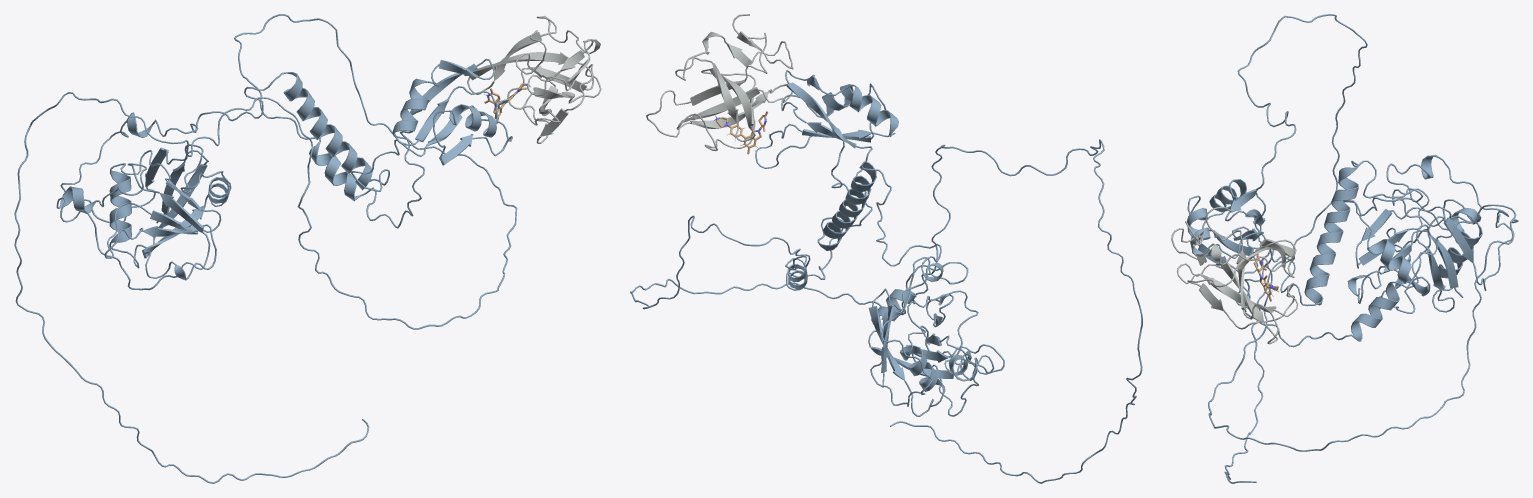
The picture shows the model from 3 angles, left to right: view 1: azimuth 30°, elevation 25°; view 2: azimuth 150°, elevation 25°; view 3: azimuth 270°, elevation 25°; orthographic projection. The views are drawn at different scales.
Visible parts, largest first — view 1: node-geom66, node-geom67; view 2: node-geom66, node-geom67; view 3: node-geom66, node-geom67.
Part boxes in pixels (x1,y1,x2,y2): node-geom66: (56, 16, 601, 290); node-geom67: (14, 14, 517, 483); node-geom66: (646, 14, 1004, 416); node-geom67: (630, 70, 1142, 483); node-geom66: (1171, 154, 1514, 344); node-geom67: (1187, 14, 1518, 483).
Size of the model in its own units: 145 by 98.81 by 81.52.
